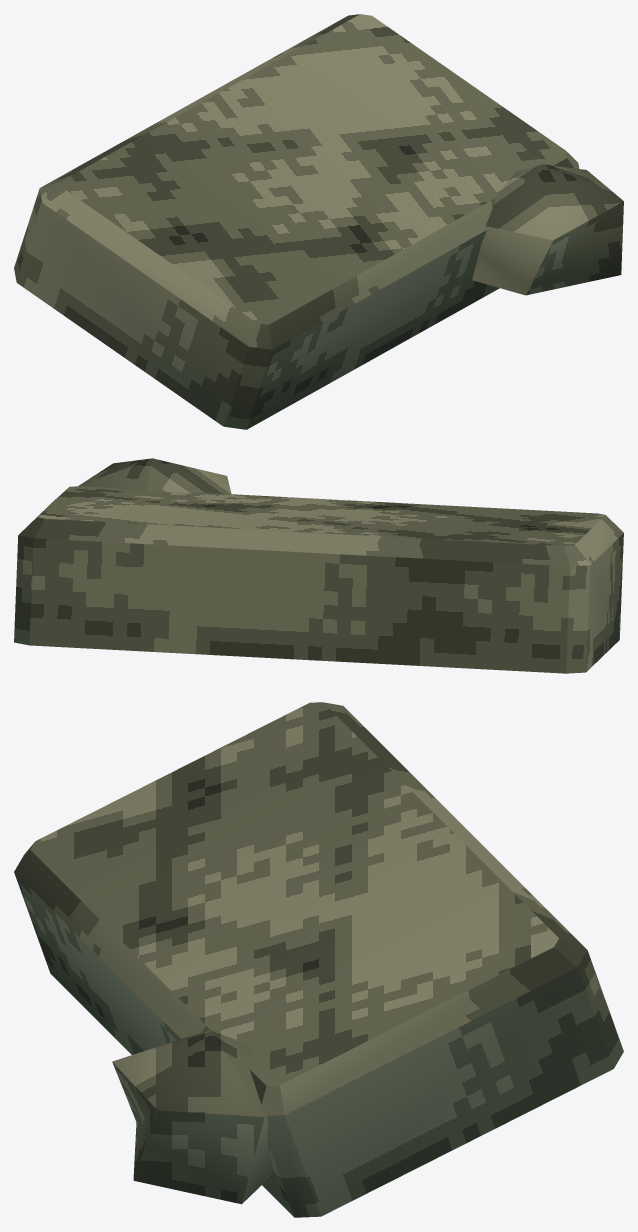
Rendered from wild.rock__slab.glb.
3 views of the same model, one above another, from view 1: azimuth 30°, elevation 25°; view 2: azimuth 150°, elevation 25°; view 3: azimuth 270°, elevation 25° (orthographic). The views are drawn at different scales.
Parts seen in each view (by area): view 1: kit_rock; view 2: kit_rock; view 3: kit_rock.
Part boxes in pixels (x1,y1,x2,y2): kit_rock: (14,14,623,429); kit_rock: (14,458,623,673); kit_rock: (14,702,623,1217).
Bounding box in the file's own units: 2.98 × 0.9594 × 2.33.
1 material, 1 textured.
